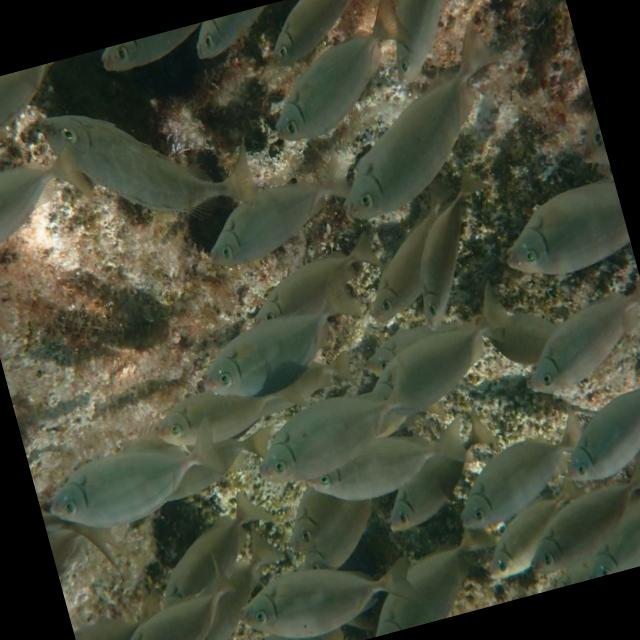Sokar Baligi: (180, 257, 382, 414), (27, 409, 239, 548), (183, 134, 374, 278), (223, 525, 437, 640), (85, 549, 252, 640)
